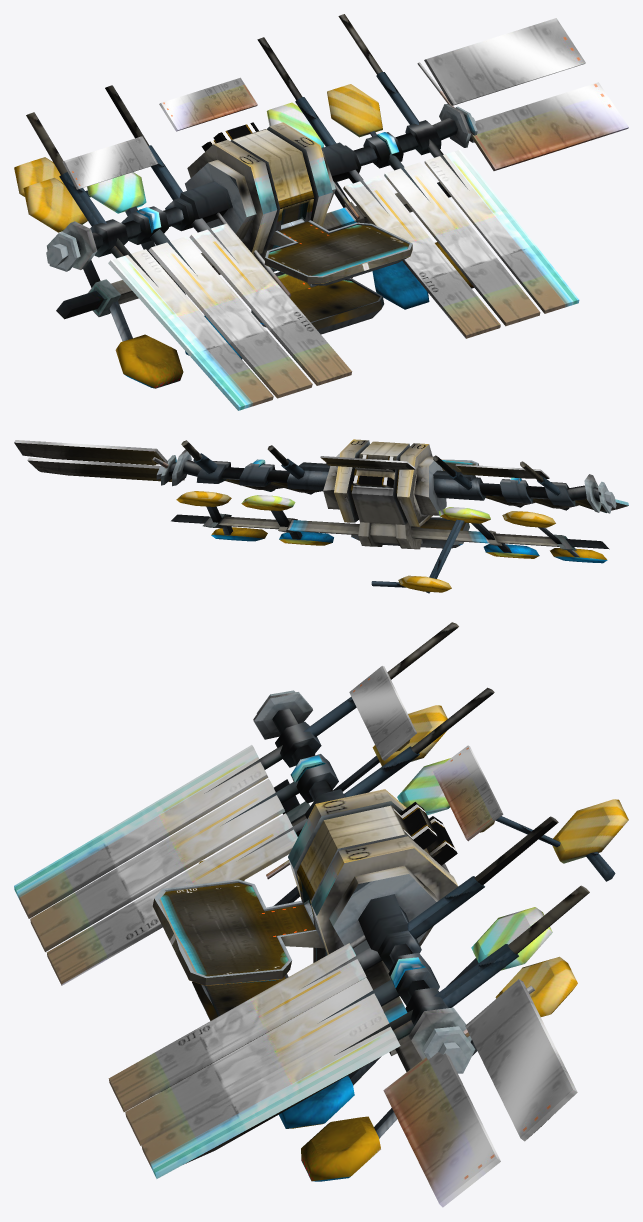
File: space_port.FBX
3 renders of one model, top to bottom at view 1: azimuth 30°, elevation 25°; view 2: azimuth 150°, elevation 25°; view 3: azimuth 270°, elevation 25°, orthographic. The views are drawn at different scales.
Parts seen in each view (by area): view 1: space_port; view 2: space_port; view 3: space_port.
Boxes of the visible parts, <box> form: space_port: <box>14,14,628,410</box>; space_port: <box>14,439,628,593</box>; space_port: <box>14,622,628,1207</box>.
Bounding box in the file's own units: 284 × 97.85 × 181.
